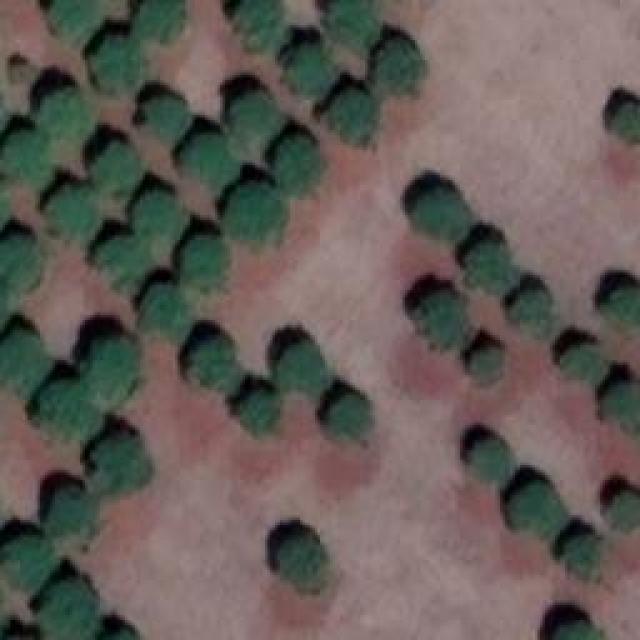Tree: (38, 380, 101, 440), (225, 185, 285, 245), (40, 580, 98, 640), (183, 133, 238, 193), (92, 438, 150, 493), (510, 483, 568, 538), (0, 330, 50, 393), (0, 538, 58, 591), (280, 533, 330, 593), (325, 0, 378, 55), (465, 243, 520, 296), (48, 487, 98, 545), (233, 90, 283, 148), (328, 87, 378, 145), (412, 190, 470, 240), (87, 343, 135, 403), (285, 43, 338, 96), (275, 343, 328, 396), (415, 295, 468, 348), (95, 238, 145, 293), (0, 133, 50, 188), (93, 38, 143, 93), (90, 143, 140, 198), (233, 0, 288, 50), (130, 193, 185, 243), (140, 285, 190, 340), (187, 338, 235, 393), (275, 137, 320, 195), (375, 40, 420, 98), (50, 188, 98, 241), (183, 238, 228, 293), (40, 90, 88, 140), (0, 235, 42, 292), (142, 97, 190, 145), (50, 0, 100, 42), (510, 293, 555, 336), (560, 345, 608, 385), (602, 383, 640, 433), (328, 395, 371, 438), (470, 440, 513, 483), (602, 287, 640, 335), (138, 0, 183, 40), (565, 532, 600, 580), (240, 390, 278, 433), (607, 105, 640, 142), (610, 492, 640, 530), (470, 348, 503, 381), (550, 625, 610, 640), (10, 65, 25, 80)
